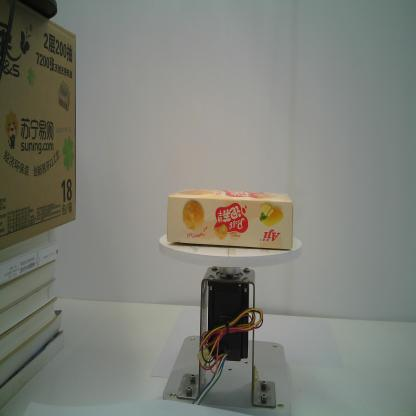Dessert: (167, 190, 294, 249)
